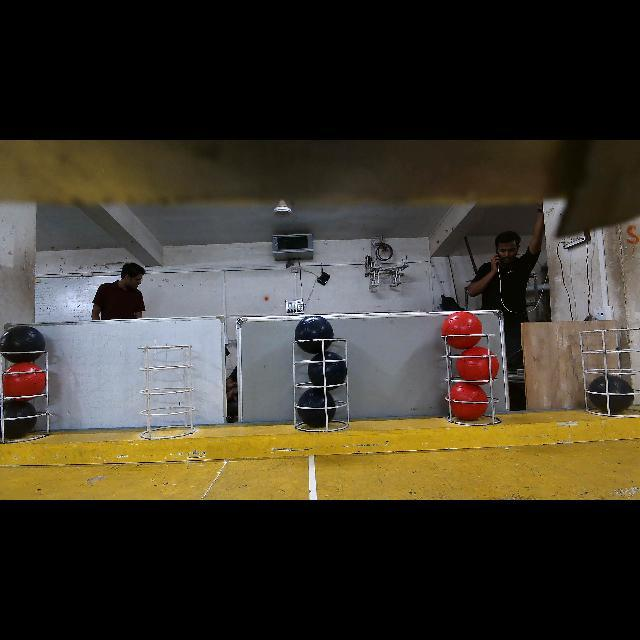P: (590, 376, 635, 412), (0, 326, 41, 364), (298, 388, 337, 426), (308, 351, 347, 389), (296, 316, 334, 355), (0, 402, 38, 440)
R: (2, 363, 43, 402), (442, 312, 482, 349), (449, 383, 487, 421), (457, 347, 498, 382)
S: (440, 328, 504, 426), (136, 345, 197, 439), (298, 329, 352, 433), (582, 332, 640, 421), (0, 342, 52, 441)
